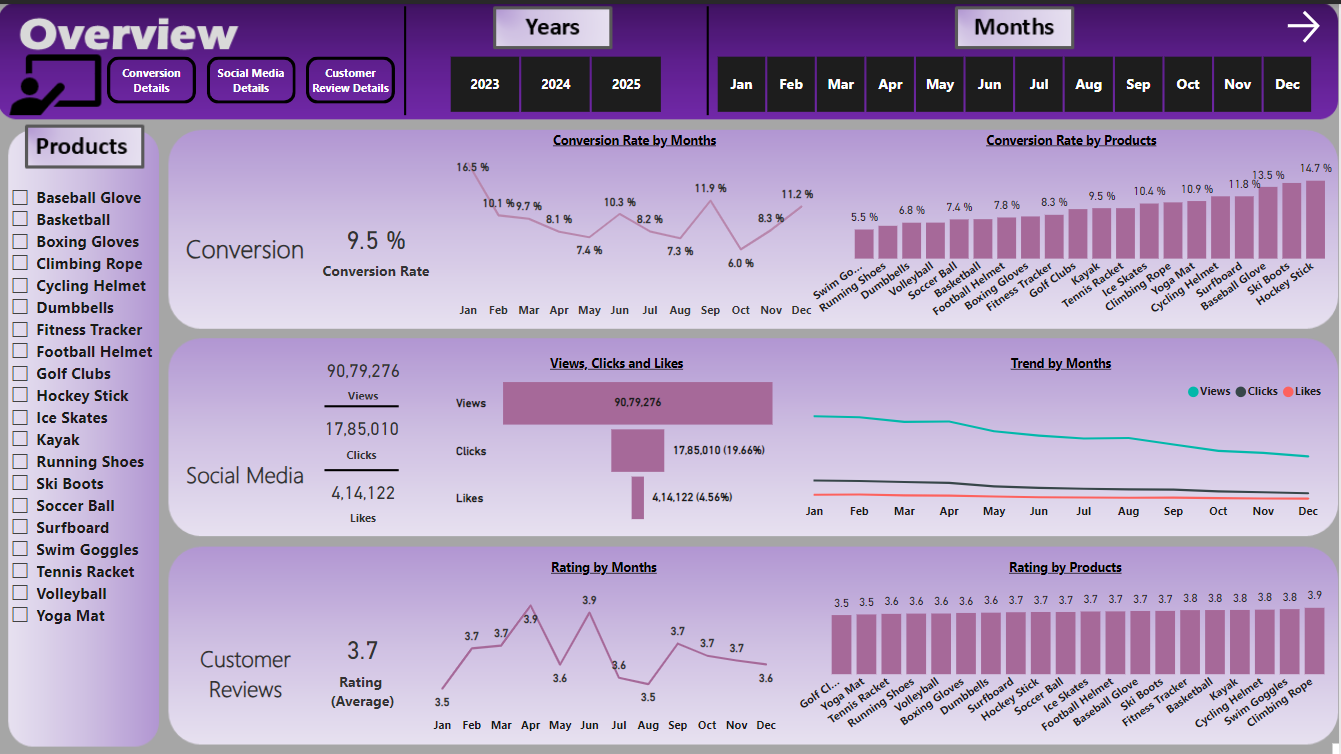

This screenshot's page, from the dashboard's own definition file:
{"tool":"powerbi","page":{"name":"Overview","canvas":[1280,720],"ordinal":0},"visuals":[{"type":"textbox","box":[1273.8,705.7,6.6,14.9],"z":0},{"type":"slicer","title":"Products","fields":{"Values":["dim_products.ProductName"]},"box":[0,167.5,156.1,553],"z":1000},{"type":"card","fields":{"Values":["_Calculations.Conversion Rate"]},"box":[301.5,195.5,117.6,76.2],"z":2000},{"type":"card","fields":{"Values":["_Calculations.Rating (Average)"]},"box":[288.2,530.1,117.6,190.5],"z":3000},{"type":"lineChart","title":"Conversion Rate by Months","fields":{"Y":["_Calculations.Conversion Rate"],"Category":["Calendar.MonthNameShort"]},"box":[431,122,351.3,187.1],"z":4000},{"type":"columnChart","title":"Conversion Rate by Products","fields":{"Category":["dim_products.ProductName"],"Y":["_Calculations.Conversion Rate"]},"box":[767.7,122,512.4,187.1],"z":5000},{"type":"slicer","fields":{"Values":["Calendar.Year"]},"box":[405,42.3,250.5,66.7],"z":6000},{"type":"slicer","fields":{"Values":["Calendar.MonthNameShort"]},"box":[660.4,42.3,616.5,66.7],"z":7000},{"type":"lineChart","title":"Trend by Months","fields":{"Y":["_Calculations.Views","_Calculations.Clicks","_Calculations.Likes"],"Category":["Calendar.MonthNameShort"]},"box":[756.3,335.1,515.6,165.9],"z":8000},{"type":"lineChart","title":"Rating by Months","fields":{"Category":["Calendar.MonthNameShort"],"Y":["_Calculations.Rating (Average)"]},"box":[406.6,530.3,341.6,175.7],"z":9000},{"type":"columnChart","title":"Rating by Products","fields":{"Category":["dim_products.ProductName"],"Y":["_Calculations.Rating (Average)"]},"box":[756.3,530.3,523.7,175.7],"z":10000},{"type":"funnel","fields":{"Y":["_Calculations.Views","_Calculations.Clicks","_Calculations.Likes"]},"box":[431,335.1,317.2,165.9],"z":11000},{"type":"card","title":"Views","fields":{"Values":["_Calculations.Views"]},"box":[287.9,331.8,118.7,50.4],"z":12000},{"type":"textbox","box":[169.2,136.6,131.8,159.4],"z":13000},{"type":"textbox","box":[169.2,335.1,131.8,144.8],"z":14000},{"type":"textbox","box":[169,530.1,132.5,190.5],"z":15000},{"type":"card","title":"Clicks","fields":{"Values":["_Calculations.Clicks"]},"box":[286.3,382.2,118.7,61.8],"z":16000},{"type":"card","title":"Likes","fields":{"Values":["_Calculations.Likes"]},"box":[287.9,447.3,118.7,53.7],"z":17000},{"type":"pageNavigator","box":[102.5,50.4,276.5,45.5],"z":18000},{"type":"actionButton","box":[1224.8,1.6,48.8,40.7],"z":19000}]}

Visuals, with their boxes in screenshot pixels (x1, y1, x2, y2), scaled from the page's 1280x720 canvas onto the 1341x754 screenshot:
textbox: {"left": 1335, "top": 739, "right": 1340, "bottom": 753}
"Products" slicer: {"left": 0, "top": 175, "right": 164, "bottom": 753}
card - _Calculations.Conversion Rate: {"left": 316, "top": 205, "right": 439, "bottom": 285}
card - _Calculations.Rating (Average): {"left": 302, "top": 555, "right": 425, "bottom": 753}
"Conversion Rate by Months" lineChart: {"left": 452, "top": 128, "right": 820, "bottom": 324}
"Conversion Rate by Products" columnChart: {"left": 804, "top": 128, "right": 1340, "bottom": 324}
slicer - Calendar.Year: {"left": 424, "top": 44, "right": 687, "bottom": 114}
slicer - Calendar.MonthNameShort: {"left": 692, "top": 44, "right": 1338, "bottom": 114}
"Trend by Months" lineChart: {"left": 792, "top": 351, "right": 1333, "bottom": 525}
"Rating by Months" lineChart: {"left": 426, "top": 555, "right": 784, "bottom": 739}
"Rating by Products" columnChart: {"left": 792, "top": 555, "right": 1340, "bottom": 739}
funnel - _Calculations.Views x _Calculations.Clicks: {"left": 452, "top": 351, "right": 784, "bottom": 525}
"Views" card: {"left": 302, "top": 347, "right": 426, "bottom": 400}
textbox: {"left": 177, "top": 143, "right": 315, "bottom": 310}
textbox: {"left": 177, "top": 351, "right": 315, "bottom": 503}
textbox: {"left": 177, "top": 555, "right": 316, "bottom": 753}
"Clicks" card: {"left": 300, "top": 400, "right": 424, "bottom": 465}
"Likes" card: {"left": 302, "top": 468, "right": 426, "bottom": 525}
pageNavigator: {"left": 107, "top": 53, "right": 397, "bottom": 100}
actionButton: {"left": 1283, "top": 2, "right": 1334, "bottom": 44}
